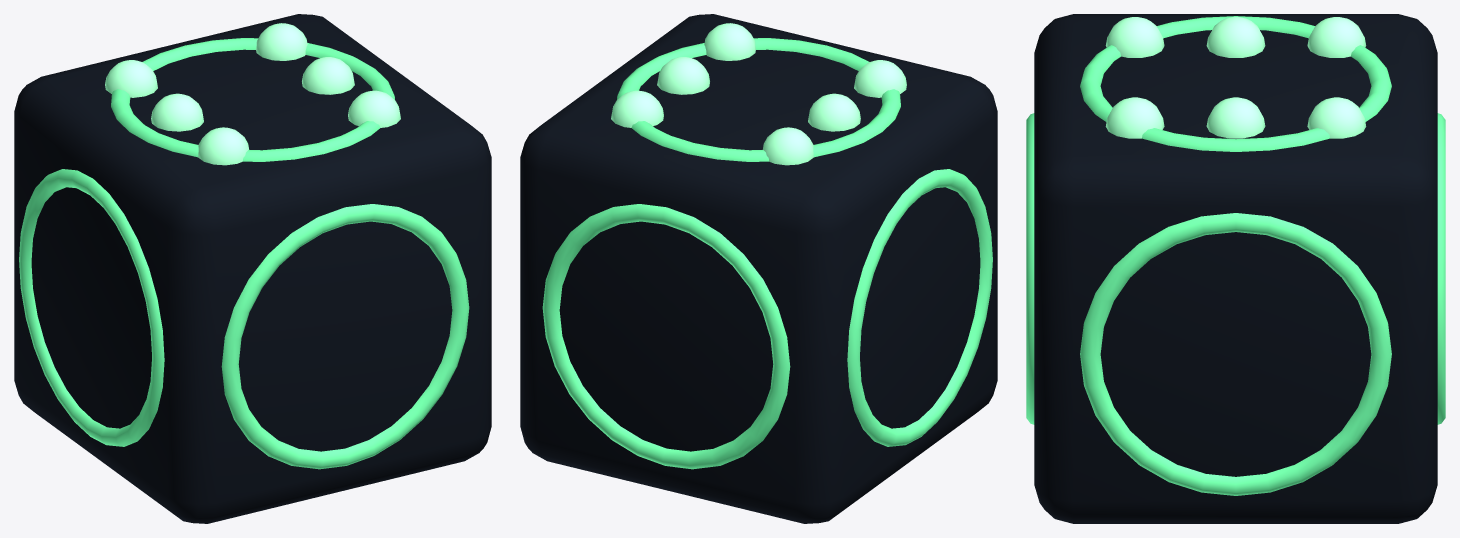
File: token-necro_die.glb
The picture shows the model from 3 angles, left to right: view 1: azimuth 30°, elevation 25°; view 2: azimuth 150°, elevation 25°; view 3: azimuth 270°, elevation 25°; orthographic projection. The views are drawn at different scales.
Visible parts, largest first — view 1: NecroDieBody, Torus.002, Torus, Torus.005, Sphere.001, Sphere.004, Sphere.005, Sphere, Sphere.002, Sphere.003; view 2: NecroDieBody, Torus.003, Torus, Torus.005, Sphere.001, Sphere.004, Sphere.003, Sphere.002, Sphere, Sphere.005; view 3: NecroDieBody, Torus.001, Torus.005, Torus.002, Torus.003, Sphere.004, Sphere.001, Sphere, Sphere.002, Sphere.003, Sphere.005.
Part boxes in pixels (box(x1,y1,x2,y2)): NecroDieBody: box(14, 14, 491, 523); Torus.002: box(221, 204, 469, 469); Torus: box(19, 169, 164, 446); Torus.005: box(111, 38, 394, 161); Sphere.001: box(151, 93, 203, 131); Sphere.004: box(302, 57, 354, 94); Sphere.005: box(256, 23, 307, 60); Sphere: box(198, 127, 249, 165); Sphere.002: box(105, 60, 157, 97); Sphere.003: box(348, 90, 400, 127); NecroDieBody: box(520, 14, 997, 523); Torus.003: box(542, 204, 790, 469); Torus: box(847, 169, 992, 446); Torus.005: box(617, 38, 900, 161); Sphere.001: box(808, 93, 860, 131); Sphere.004: box(657, 57, 709, 94); Sphere.003: box(704, 23, 755, 60); Sphere.002: box(762, 127, 813, 165); Sphere: box(854, 60, 906, 97); Sphere.005: box(611, 90, 663, 127); NecroDieBody: box(1034, 14, 1437, 523); Torus.001: box(1080, 213, 1391, 495); Torus.005: box(1080, 16, 1391, 151); Torus.002: box(1026, 113, 1034, 424); Torus.003: box(1437, 113, 1445, 424); Sphere.004: box(1206, 97, 1265, 138); Sphere.001: box(1206, 17, 1265, 57); Sphere: box(1105, 17, 1164, 57); Sphere.002: box(1307, 17, 1366, 57); Sphere.003: box(1105, 97, 1164, 138); Sphere.005: box(1307, 97, 1366, 138).
Bounding box in the file's own units: 1.5 × 1.73 × 1.5.
